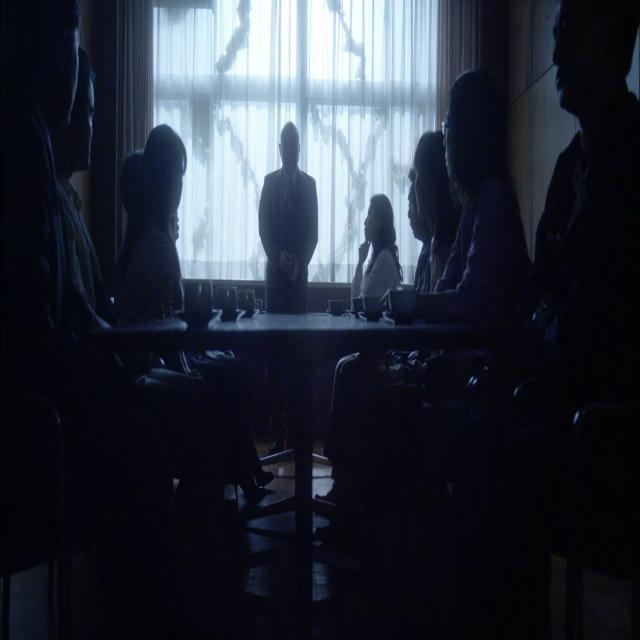People: (539, 0, 640, 607), (0, 0, 94, 596), (435, 40, 531, 450), (66, 27, 120, 439), (131, 98, 202, 397), (256, 81, 322, 328), (411, 92, 460, 406), (355, 182, 402, 468), (404, 141, 435, 367)
Table: (211, 261, 470, 562)
